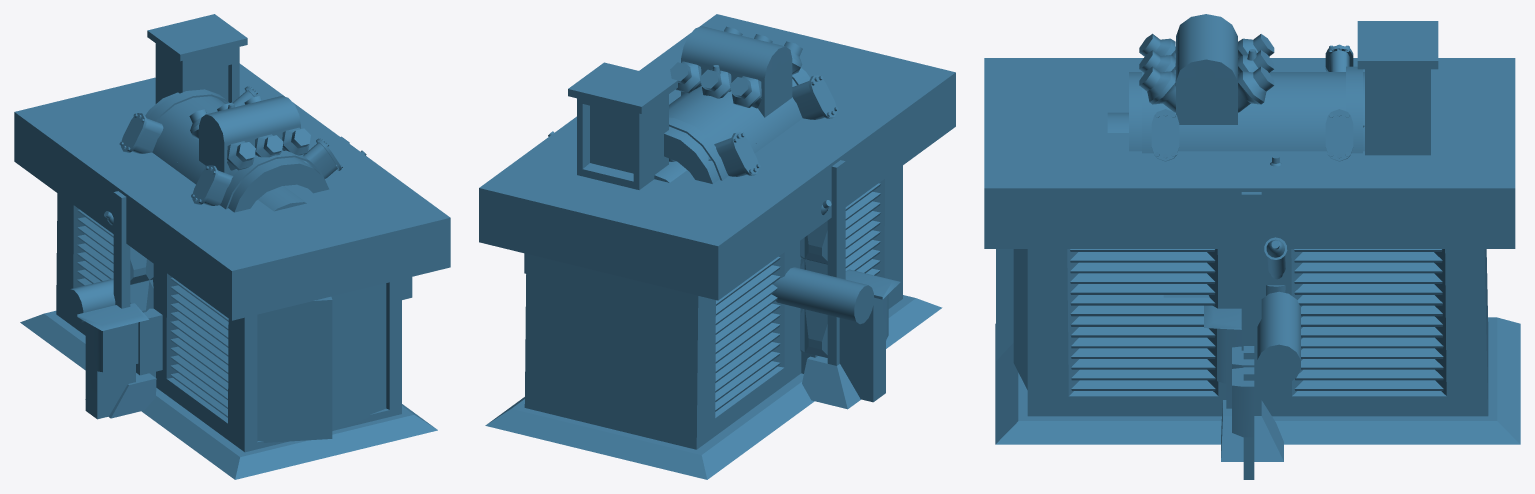
File: POD_Ready.fbx
3 renders of one model, left to right at view 1: azimuth 30°, elevation 25°; view 2: azimuth 150°, elevation 25°; view 3: azimuth 270°, elevation 25°, orthographic. The views are drawn at different scales.
Parts seen in each view (by area): view 1: POD_464_Budka, POD_1688_Trans, POD_1694_Blocks, POD_1290_Station, POD_516_Zabor_Side; view 2: POD_464_Budka, POD_1688_Trans, POD_1694_Blocks, POD_1290_Station, POD_516_Zabor_Side; view 3: POD_464_Budka, POD_1688_Trans, POD_1290_Station, POD_1694_Blocks, POD_536_Zabor.
Boxes of the visible parts, <box> form: POD_464_Budka: <box>14,14,450,479</box>; POD_1688_Trans: <box>119,86,342,212</box>; POD_1694_Blocks: <box>65,150,412,419</box>; POD_1290_Station: <box>189,95,310,173</box>; POD_516_Zabor_Side: <box>85,191,156,418</box>; POD_464_Budka: <box>479,14,955,479</box>; POD_1688_Trans: <box>654,68,838,183</box>; POD_1694_Blocks: <box>524,131,900,402</box>; POD_1290_Station: <box>669,26,802,161</box>; POD_516_Zabor_Side: <box>800,160,860,409</box>; POD_464_Budka: <box>984,21,1520,444</box>; POD_1688_Trans: <box>1107,44,1364,161</box>; POD_1290_Station: <box>1139,14,1364,297</box>; POD_1694_Blocks: <box>1204,155,1300,479</box>; POD_536_Zabor: <box>1221,192,1283,461</box>.
Bounding box in the file's own units: 39.15 × 34.96 × 45.42.
